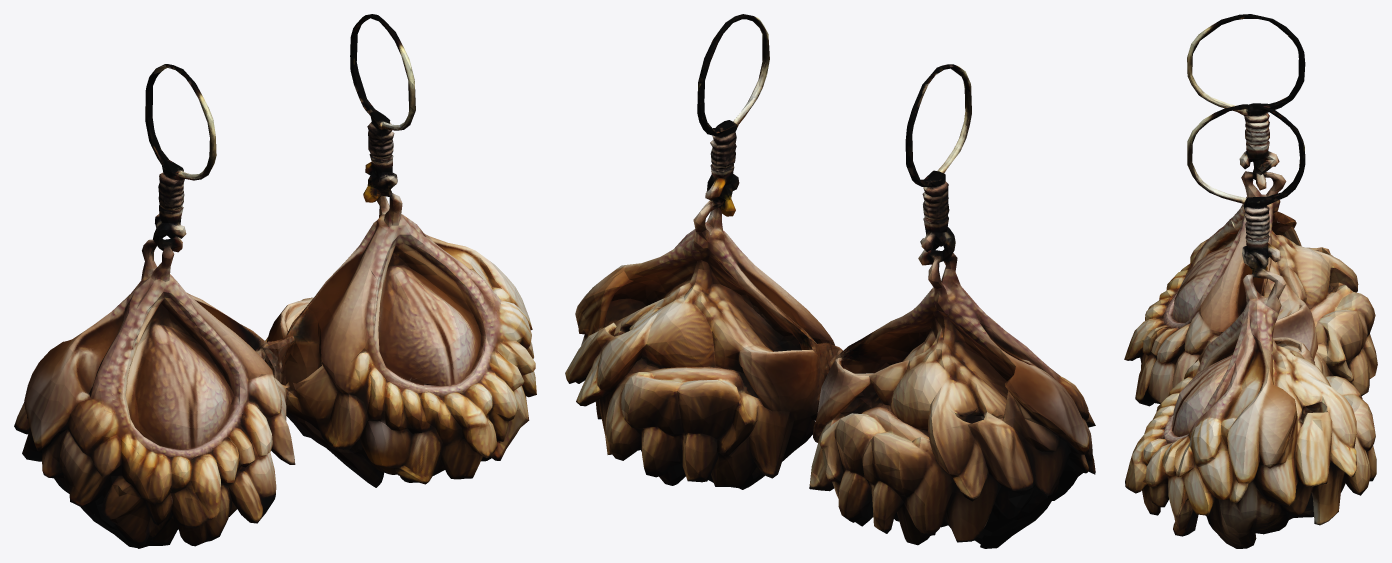
Rendered from natural-seed-earrings-organic hi-res.jpeg.glb.
3 views of the same model, side by side, from view 1: azimuth 30°, elevation 25°; view 2: azimuth 150°, elevation 25°; view 3: azimuth 270°, elevation 25° (orthographic). The views are drawn at different scales.
Parts seen in each view (by area): view 1: world; view 2: world; view 3: world.
Part boxes in pixels (bbox=[...]): world: bbox=[14, 14, 536, 548]; world: bbox=[565, 14, 1095, 548]; world: bbox=[1124, 14, 1377, 548].
Size of the model in its own units: 0.9999 by 0.9004 by 0.4862.
Materials: 1 (1 with a texture image).
